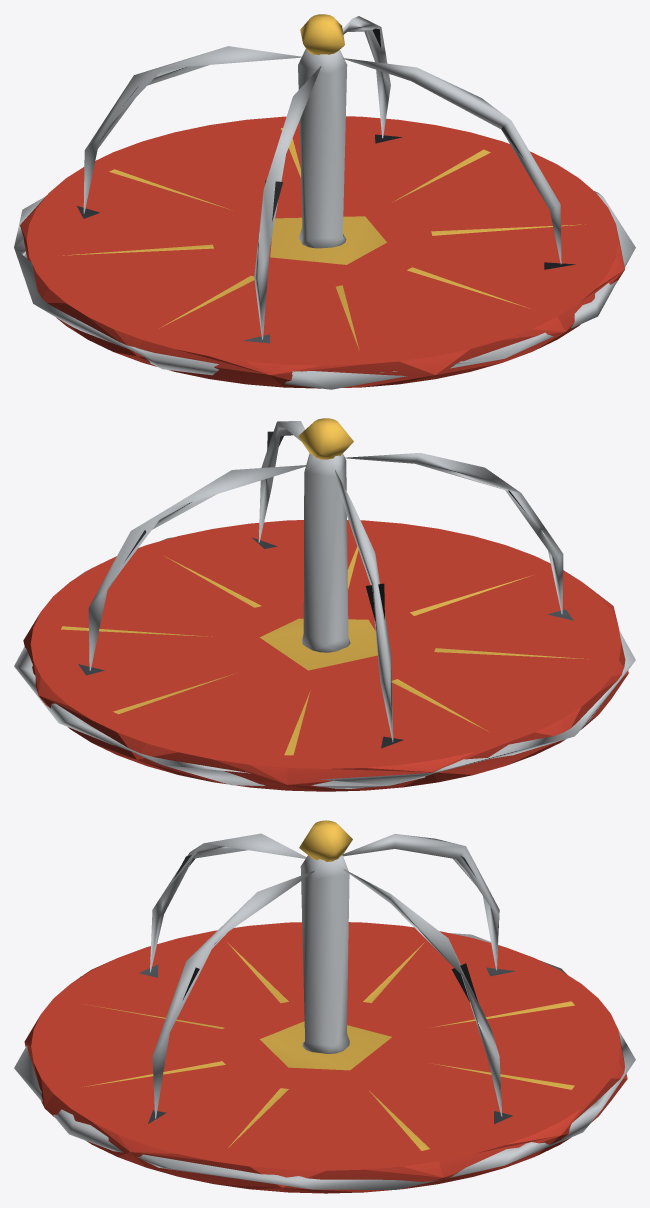
File: merryGoRound.far.glb
3 views of the same model, one above another, from view 1: azimuth 30°, elevation 25°; view 2: azimuth 150°, elevation 25°; view 3: azimuth 270°, elevation 25° (orthographic).
Visible parts, largest first — view 1: merryGoRound_far; view 2: merryGoRound_far; view 3: merryGoRound_far.
Part boxes in pixels (left/top/right/bottom): merryGoRound_far: left=14, top=14, right=635, bottom=389; merryGoRound_far: left=14, top=418, right=635, bottom=791; merryGoRound_far: left=14, top=820, right=635, bottom=1193.
Size of the model in its own units: 1.97 by 1.04 by 1.98.
